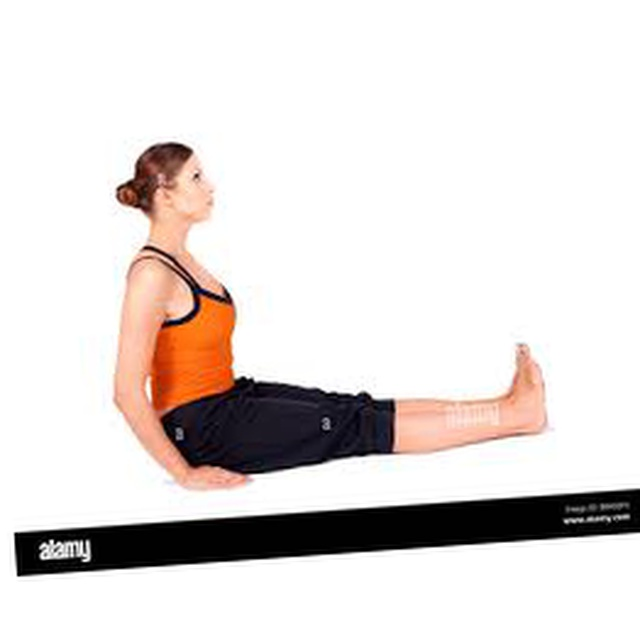Staff_Pose: (112, 142, 550, 491)
